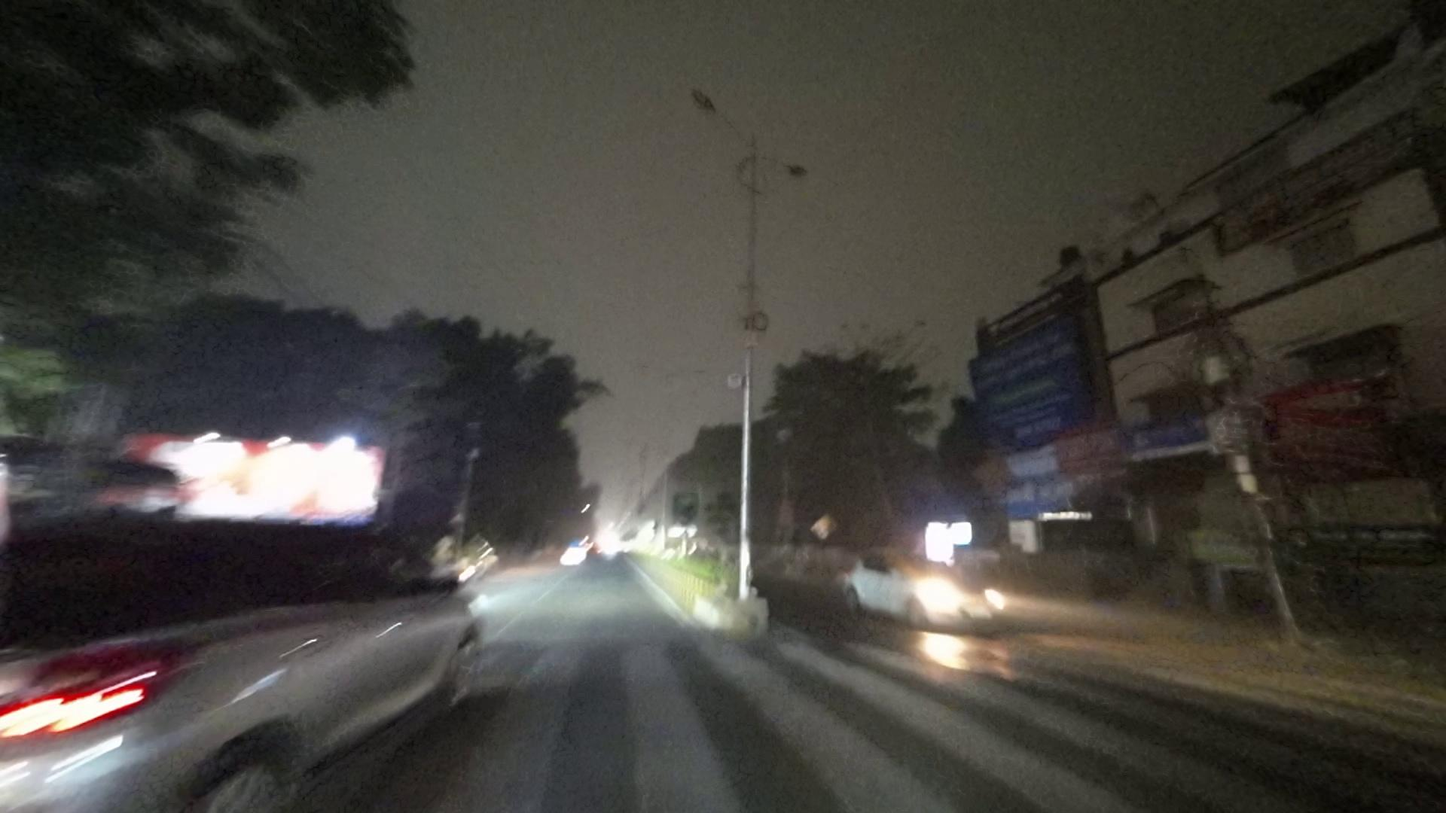streetlight: (691, 82, 749, 147), (760, 150, 810, 182)
